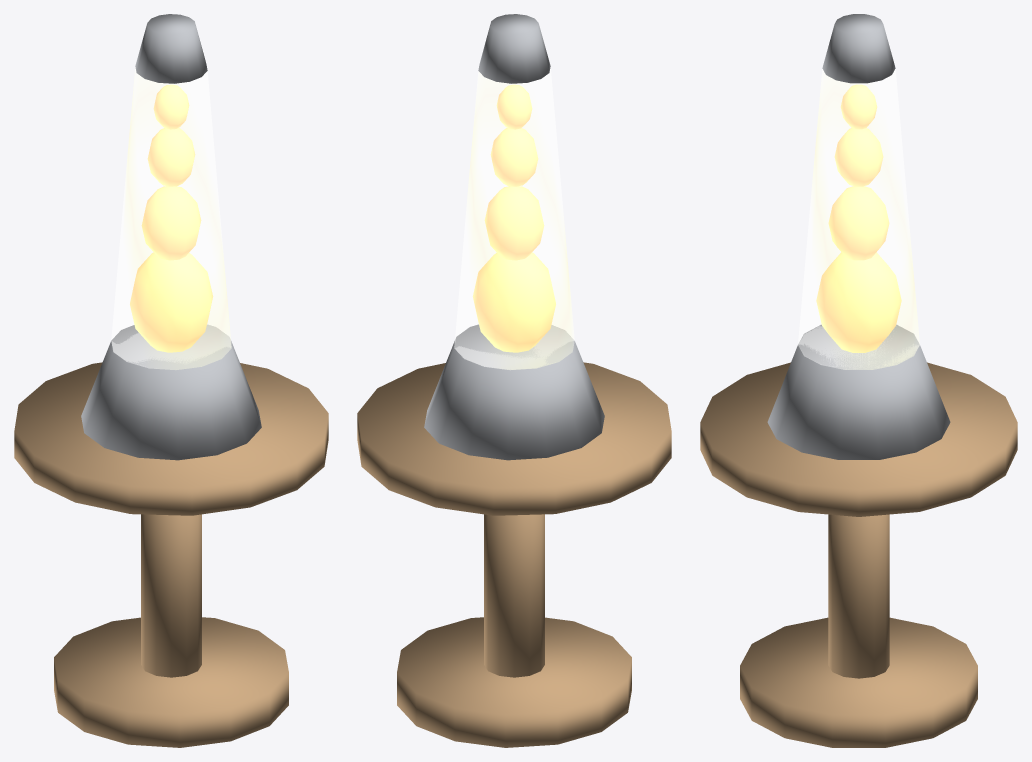
The model's file is home_sv_lavalamp_v01.glb.
The picture shows the model from 3 angles, left to right: view 1: azimuth 30°, elevation 25°; view 2: azimuth 150°, elevation 25°; view 3: azimuth 270°, elevation 25°; orthographic projection.
Visible parts, largest first — view 1: home_sv_lavalamp_v01; view 2: home_sv_lavalamp_v01; view 3: home_sv_lavalamp_v01.
Boxes of the visible parts, x1,y1,x2,y2 form: home_sv_lavalamp_v01: [14, 14, 328, 747]; home_sv_lavalamp_v01: [357, 14, 671, 747]; home_sv_lavalamp_v01: [700, 14, 1017, 747].
Bounding box in the file's own units: 0.52 × 1.22 × 0.52.
